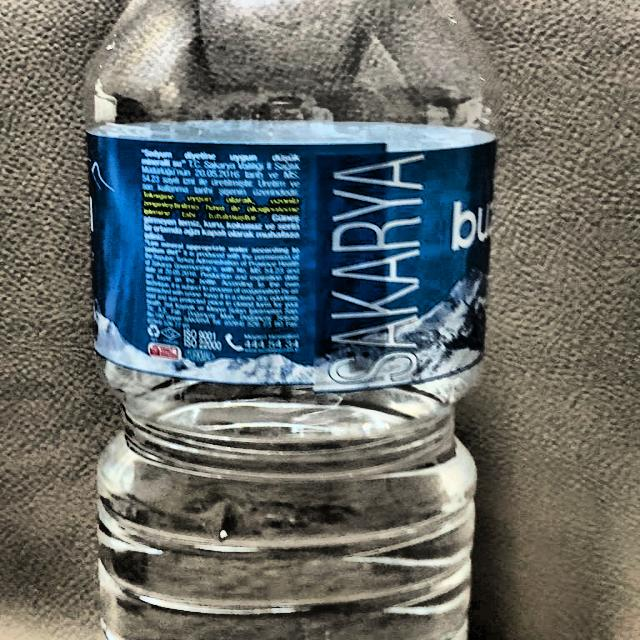plastic: (77, 0, 498, 640)
